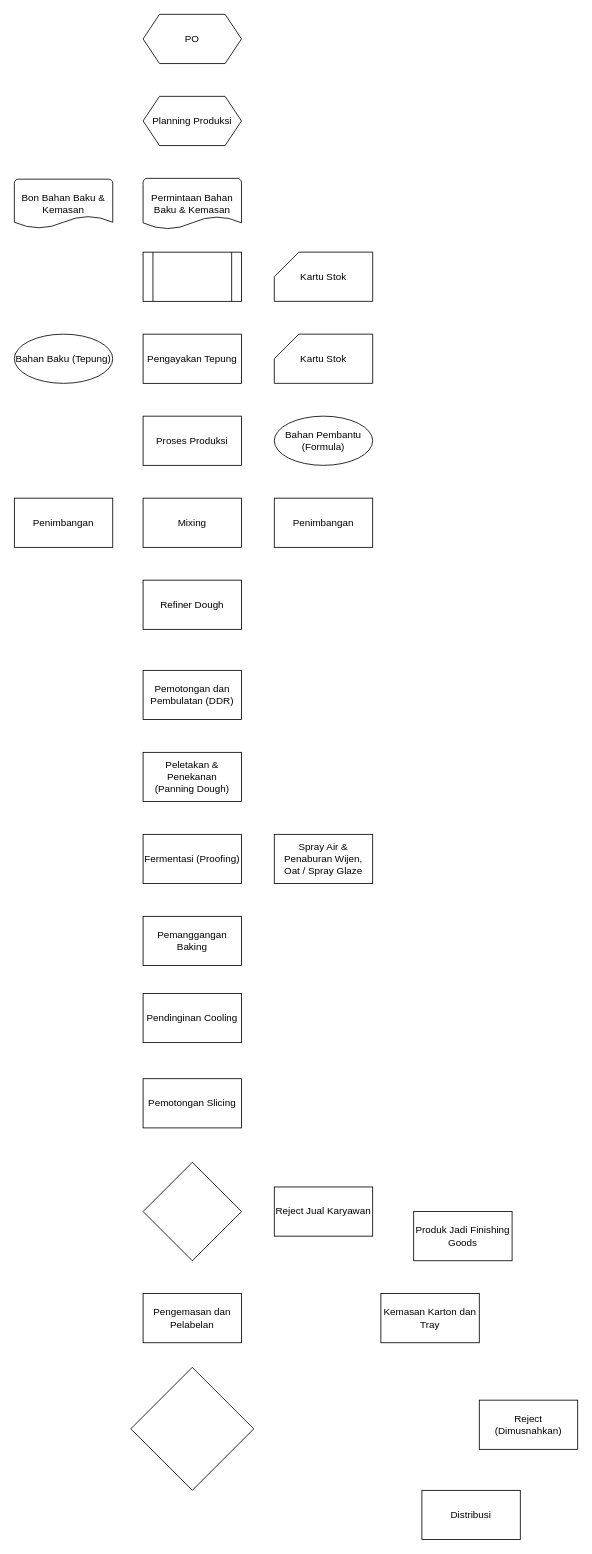
Image size: 592x1554. Some labels were removed from this diagram. The shapes that lost their labels are listed below. From the top down, each one's centre as x and y in pixels, then its label:
At pixel 191 276: "Penyimpanan Bahan Baku & Kemasan".
At pixel 191 1211: "Sortir Produk Jadi".
At pixel 192 1428: "Pendeteksian Logam Metal Detector".
